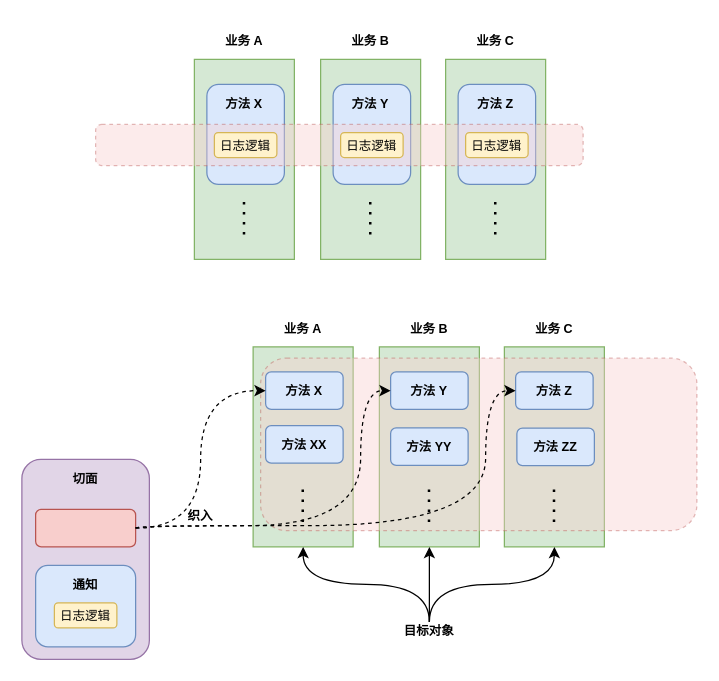
This 719x681 diagram has some shape labels left out. Each missing label, with the box of its shape:
切入点: (34, 508, 136, 547)
横切关注点: (94, 123, 583, 166)
连接点: (259, 357, 697, 531)
